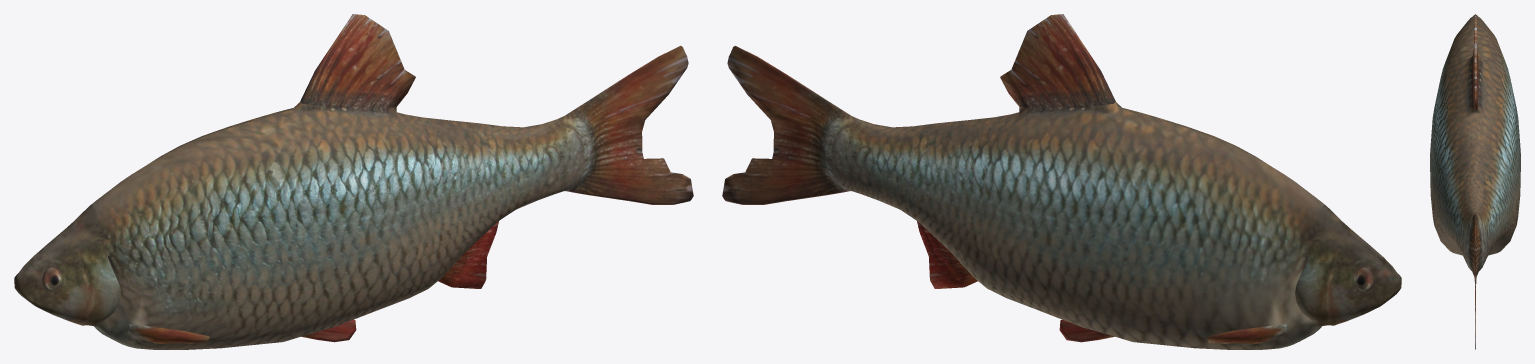
Rendered from BoringFish.fbx.
3 renders of one model, left to right at view 1: azimuth 30°, elevation 25°; view 2: azimuth 150°, elevation 25°; view 3: azimuth 270°, elevation 25°, orthographic. The views are drawn at different scales.
Visible parts, largest first — view 1: Rudd-Fish; view 2: Rudd-Fish; view 3: Rudd-Fish.
Boxes of the visible parts, x1,y1,x2,y2 form: Rudd-Fish: (14,14,693,349); Rudd-Fish: (722,14,1401,349); Rudd-Fish: (1430,14,1520,349).
Bounding box in the file's own units: 96.24 × 44.12 × 14.52.
Materials: 1 (1 with a texture image).
